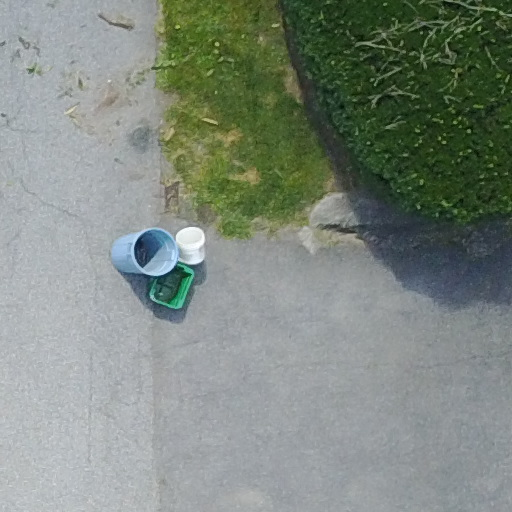container: (168, 222, 215, 270)
recycling bin: (135, 251, 215, 336)
trash bin: (111, 203, 181, 309)
